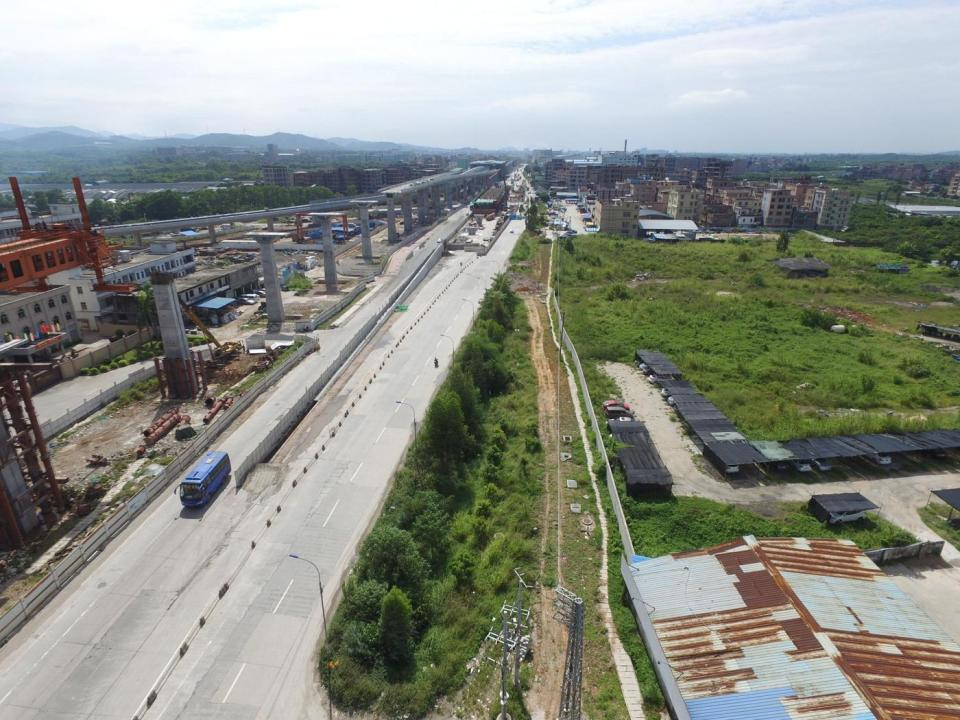bus: (179, 452, 229, 506)
car: (828, 503, 866, 524), (765, 448, 789, 472), (862, 448, 894, 465), (806, 450, 832, 470), (786, 452, 810, 472), (917, 443, 944, 459), (901, 446, 924, 463), (603, 400, 629, 412), (616, 416, 640, 427), (662, 386, 686, 397), (724, 456, 739, 473), (643, 365, 663, 376), (649, 375, 675, 383), (634, 357, 656, 366), (667, 394, 686, 404), (673, 403, 691, 411), (640, 362, 656, 370), (237, 298, 255, 304), (256, 290, 269, 298), (558, 234, 574, 240), (841, 226, 853, 233), (231, 257, 244, 263), (692, 229, 703, 234), (564, 231, 573, 237), (706, 230, 713, 234), (437, 238, 442, 243), (510, 229, 514, 233), (466, 212, 468, 215)
truck: (243, 253, 254, 261)
van: (604, 406, 635, 420), (240, 293, 260, 302), (348, 222, 356, 227)
